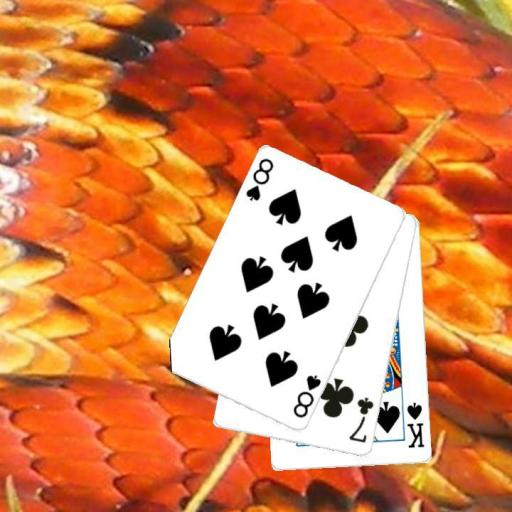7C: (346, 394, 376, 445)
8S: (289, 372, 323, 420), (243, 155, 275, 203)
KS: (404, 399, 426, 450)
